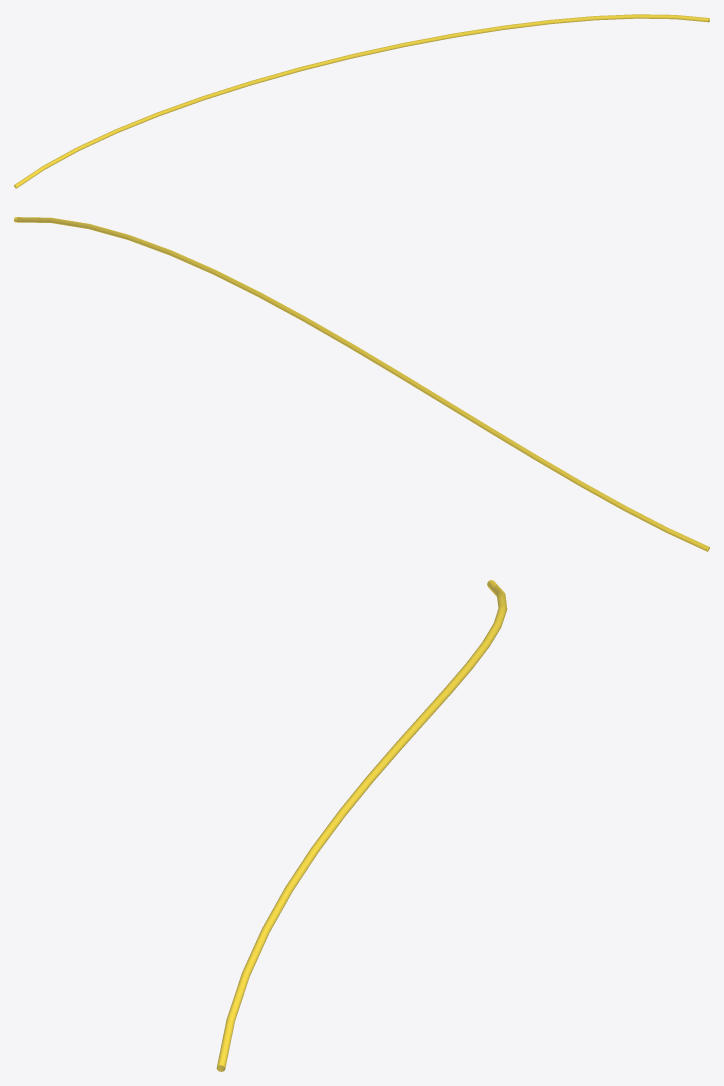
File: Event_100608114_track_99.fbx
3 renders of one model, top to bottom at view 1: azimuth 30°, elevation 25°; view 2: azimuth 150°, elevation 25°; view 3: azimuth 270°, elevation 25°, orthographic. The views are drawn at different scales.
Visible parts, largest first — view 1: Model; view 2: Model; view 3: Model.
Boxes of the visible parts, x1=… form: Model: x1=14, y1=14, x2=709, y2=188; Model: x1=14, y1=217, x2=709, y2=551; Model: x1=216, y1=580, x2=507, y2=1071.
Size of the model in its own units: 6.66 by 0.8881 by 1.34.
